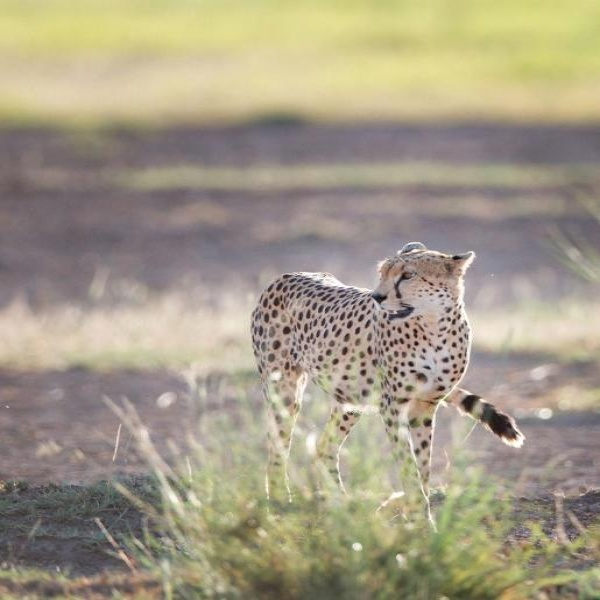Cheetah: (246, 239, 523, 541)
